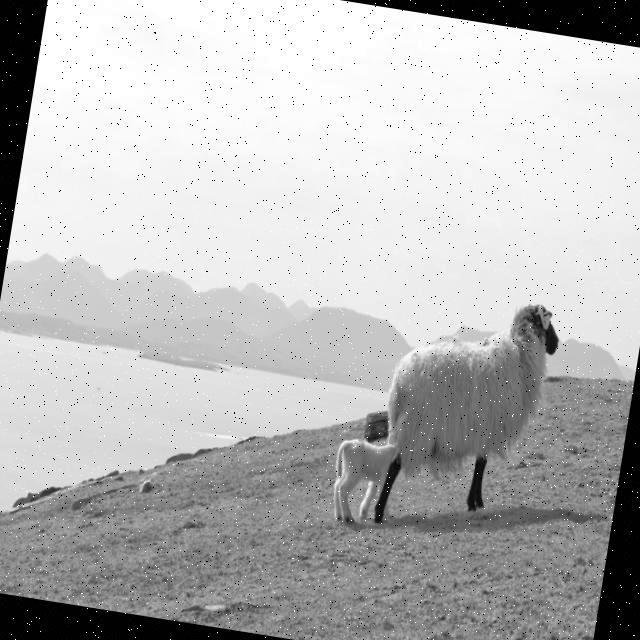sheep: (375, 304, 557, 516), (333, 438, 393, 521)
